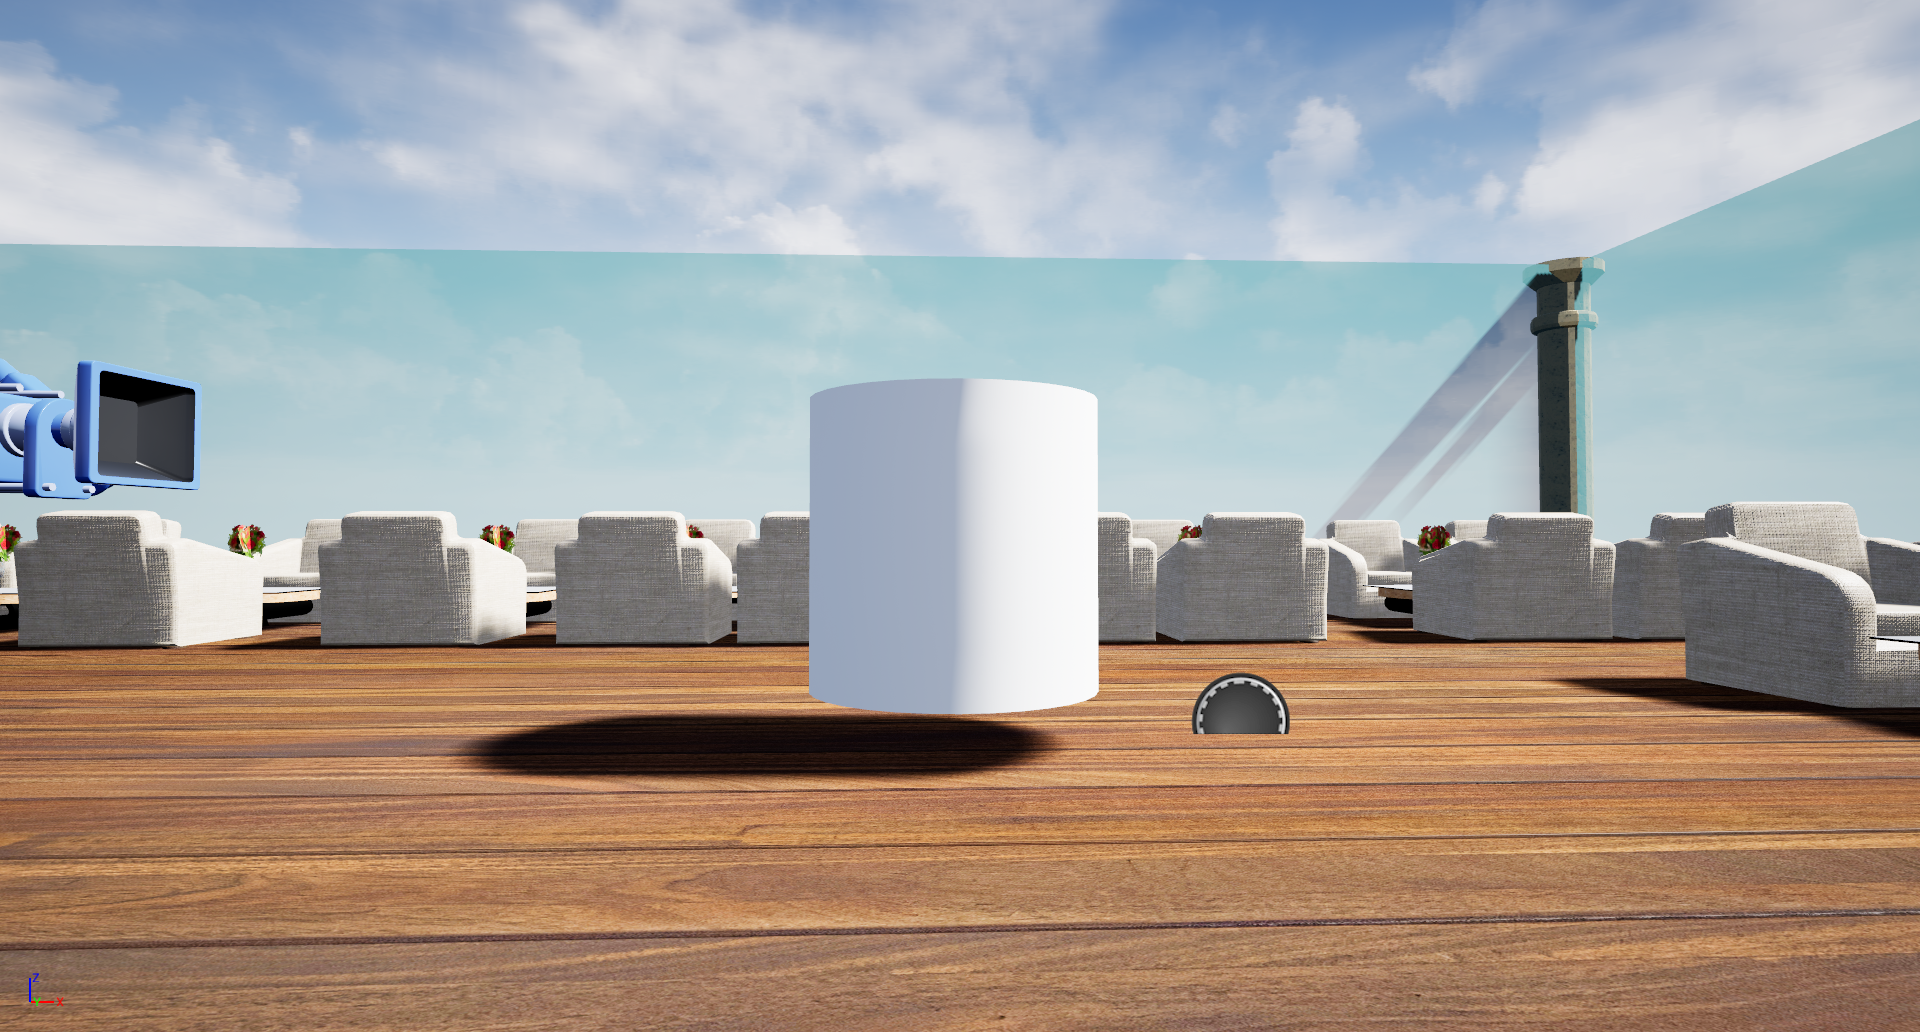Humen: (804, 375, 1105, 717)
